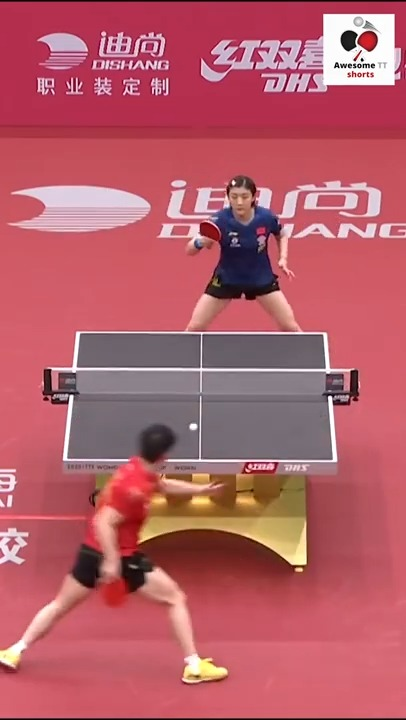Ball: (190, 422, 200, 432)
